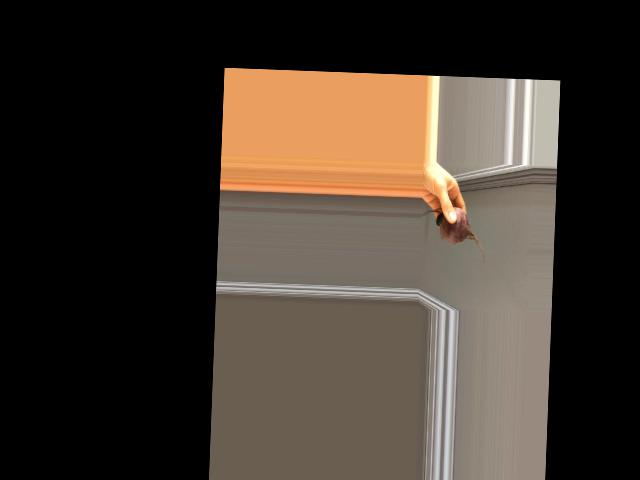beet: (418, 206, 486, 264)
